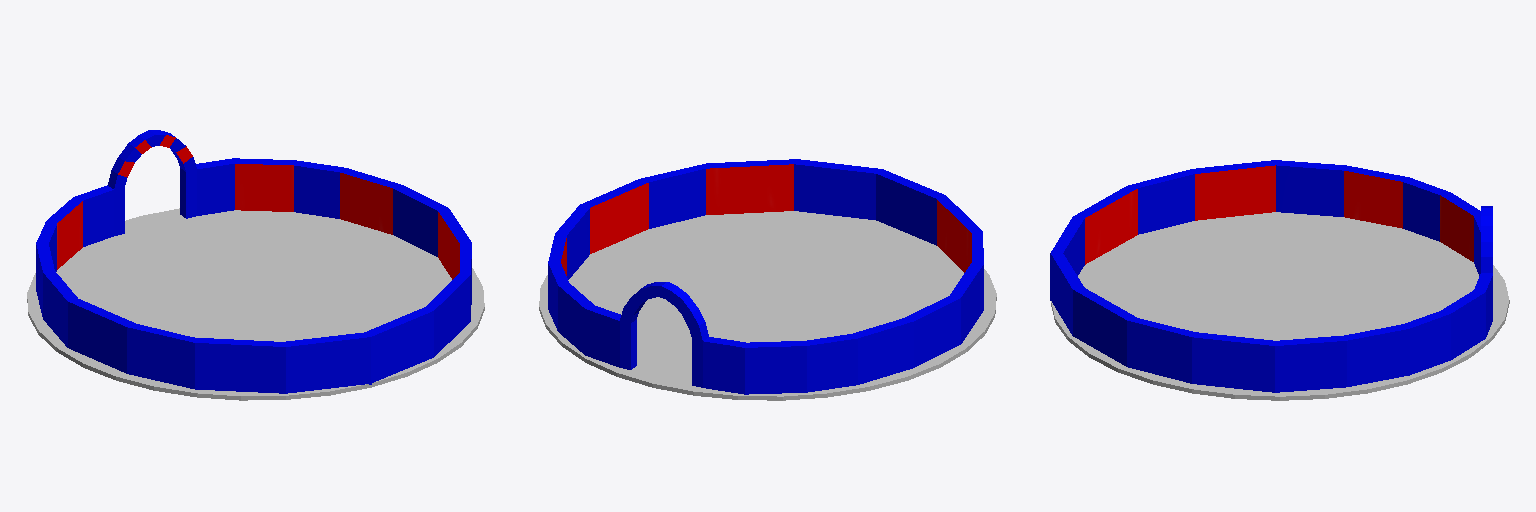
3 views of the same model, side by side, from view 1: azimuth 30°, elevation 25°; view 2: azimuth 150°, elevation 25°; view 3: azimuth 270°, elevation 25° (orthographic).
Visible parts, largest first — view 1: Cube_Cube.001, Circle; view 2: Cube_Cube.001, Circle; view 3: Cube_Cube.001, Circle.
Boxes of the visible parts, x1=… form: Cube_Cube.001: x1=36, y1=130, x2=471, y2=393; Circle: x1=27, y1=208, x2=484, y2=400; Cube_Cube.001: x1=548, y1=159, x2=983, y2=394; Circle: x1=539, y1=211, x2=996, y2=400; Cube_Cube.001: x1=1050, y1=160, x2=1492, y2=392; Circle: x1=1051, y1=212, x2=1509, y2=400.
Bounding box in the file's own units: 2.92 × 0.6734 × 2.92.
Materials: 2 (1 with a texture image).